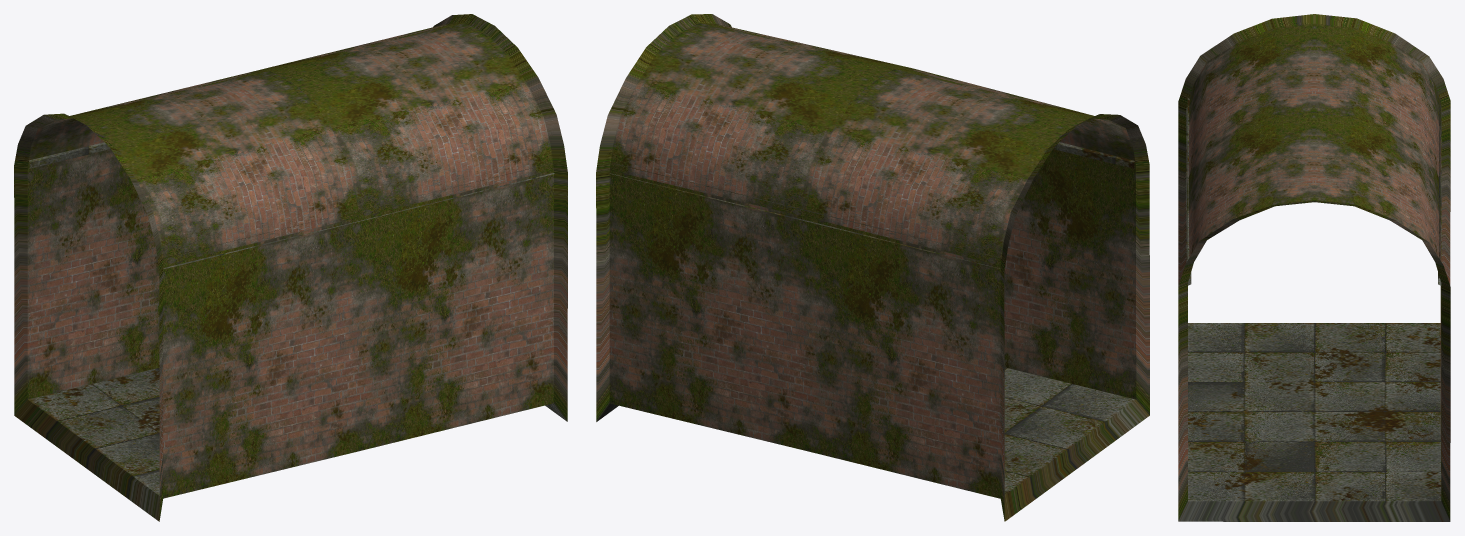
File: WallSection.FBX
3 renders of one model, left to right at view 1: azimuth 30°, elevation 25°; view 2: azimuth 150°, elevation 25°; view 3: azimuth 270°, elevation 25°, orthographic. The views are drawn at different scales.
Parts seen in each view (by area): view 1: WallSection; view 2: WallSection; view 3: WallSection.
Part boxes in pixels (<box>): WallSection: <box>14,14,567,521</box>; WallSection: <box>596,14,1149,521</box>; WallSection: <box>1178,14,1450,521</box>.
Size of the model in its own units: 522 by 420 by 323.
